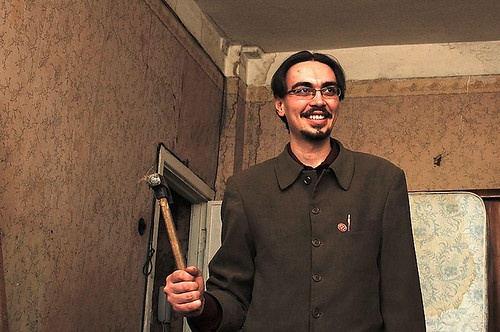hammer: (140, 169, 201, 301)
